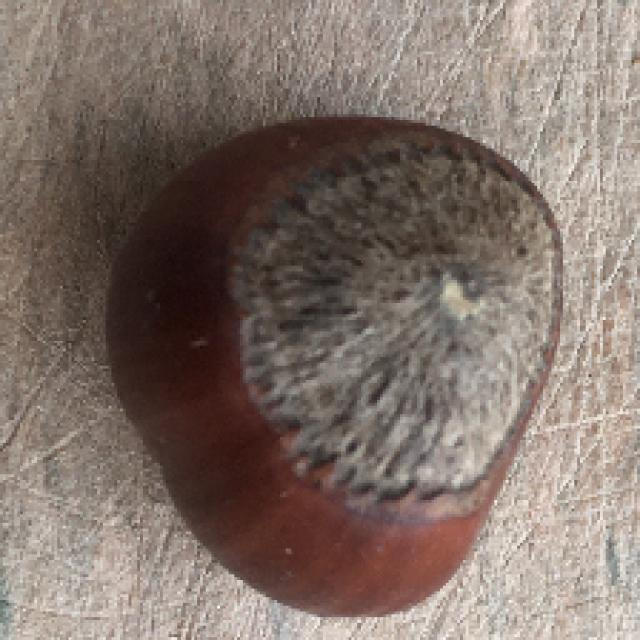damagedHazelnut: (81, 104, 585, 616)
